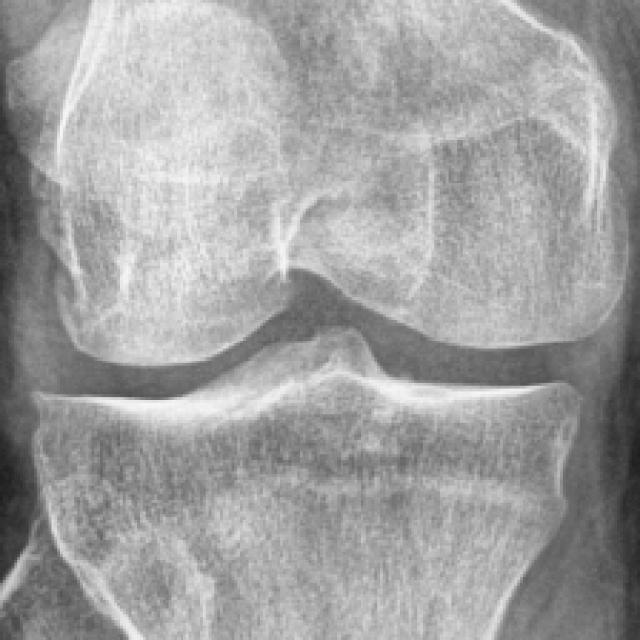femur: (9, 1, 629, 365)
tibia: (29, 331, 574, 640)
